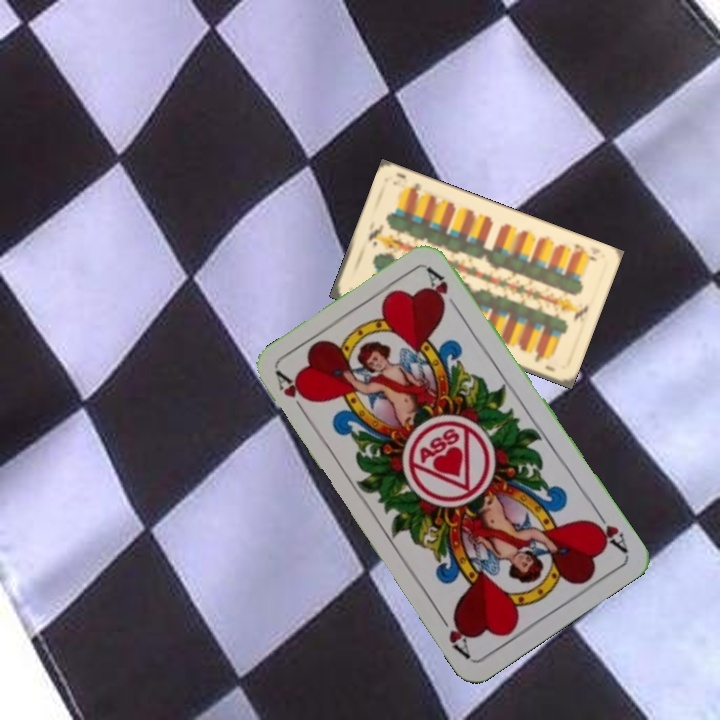E10: (568, 240, 600, 264)
HA: (585, 503, 630, 555), (272, 367, 313, 421)
